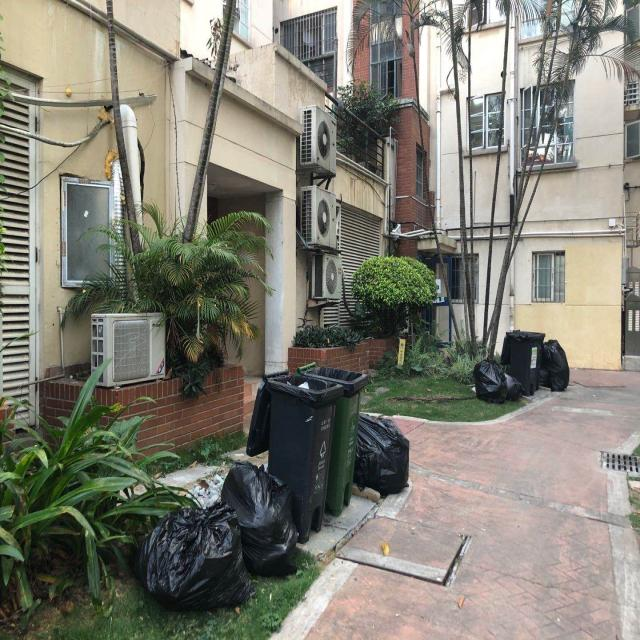garbage: (132, 461, 298, 615), (354, 412, 411, 494), (474, 359, 524, 401), (544, 340, 570, 390)
garbage_bin: (269, 375, 342, 543), (296, 361, 366, 515), (508, 329, 544, 394)
